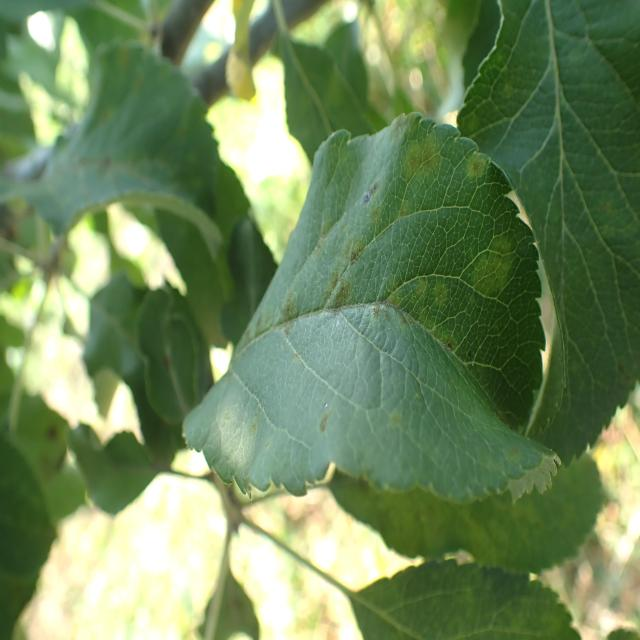scab: (221, 100, 548, 494), (29, 51, 173, 220)
